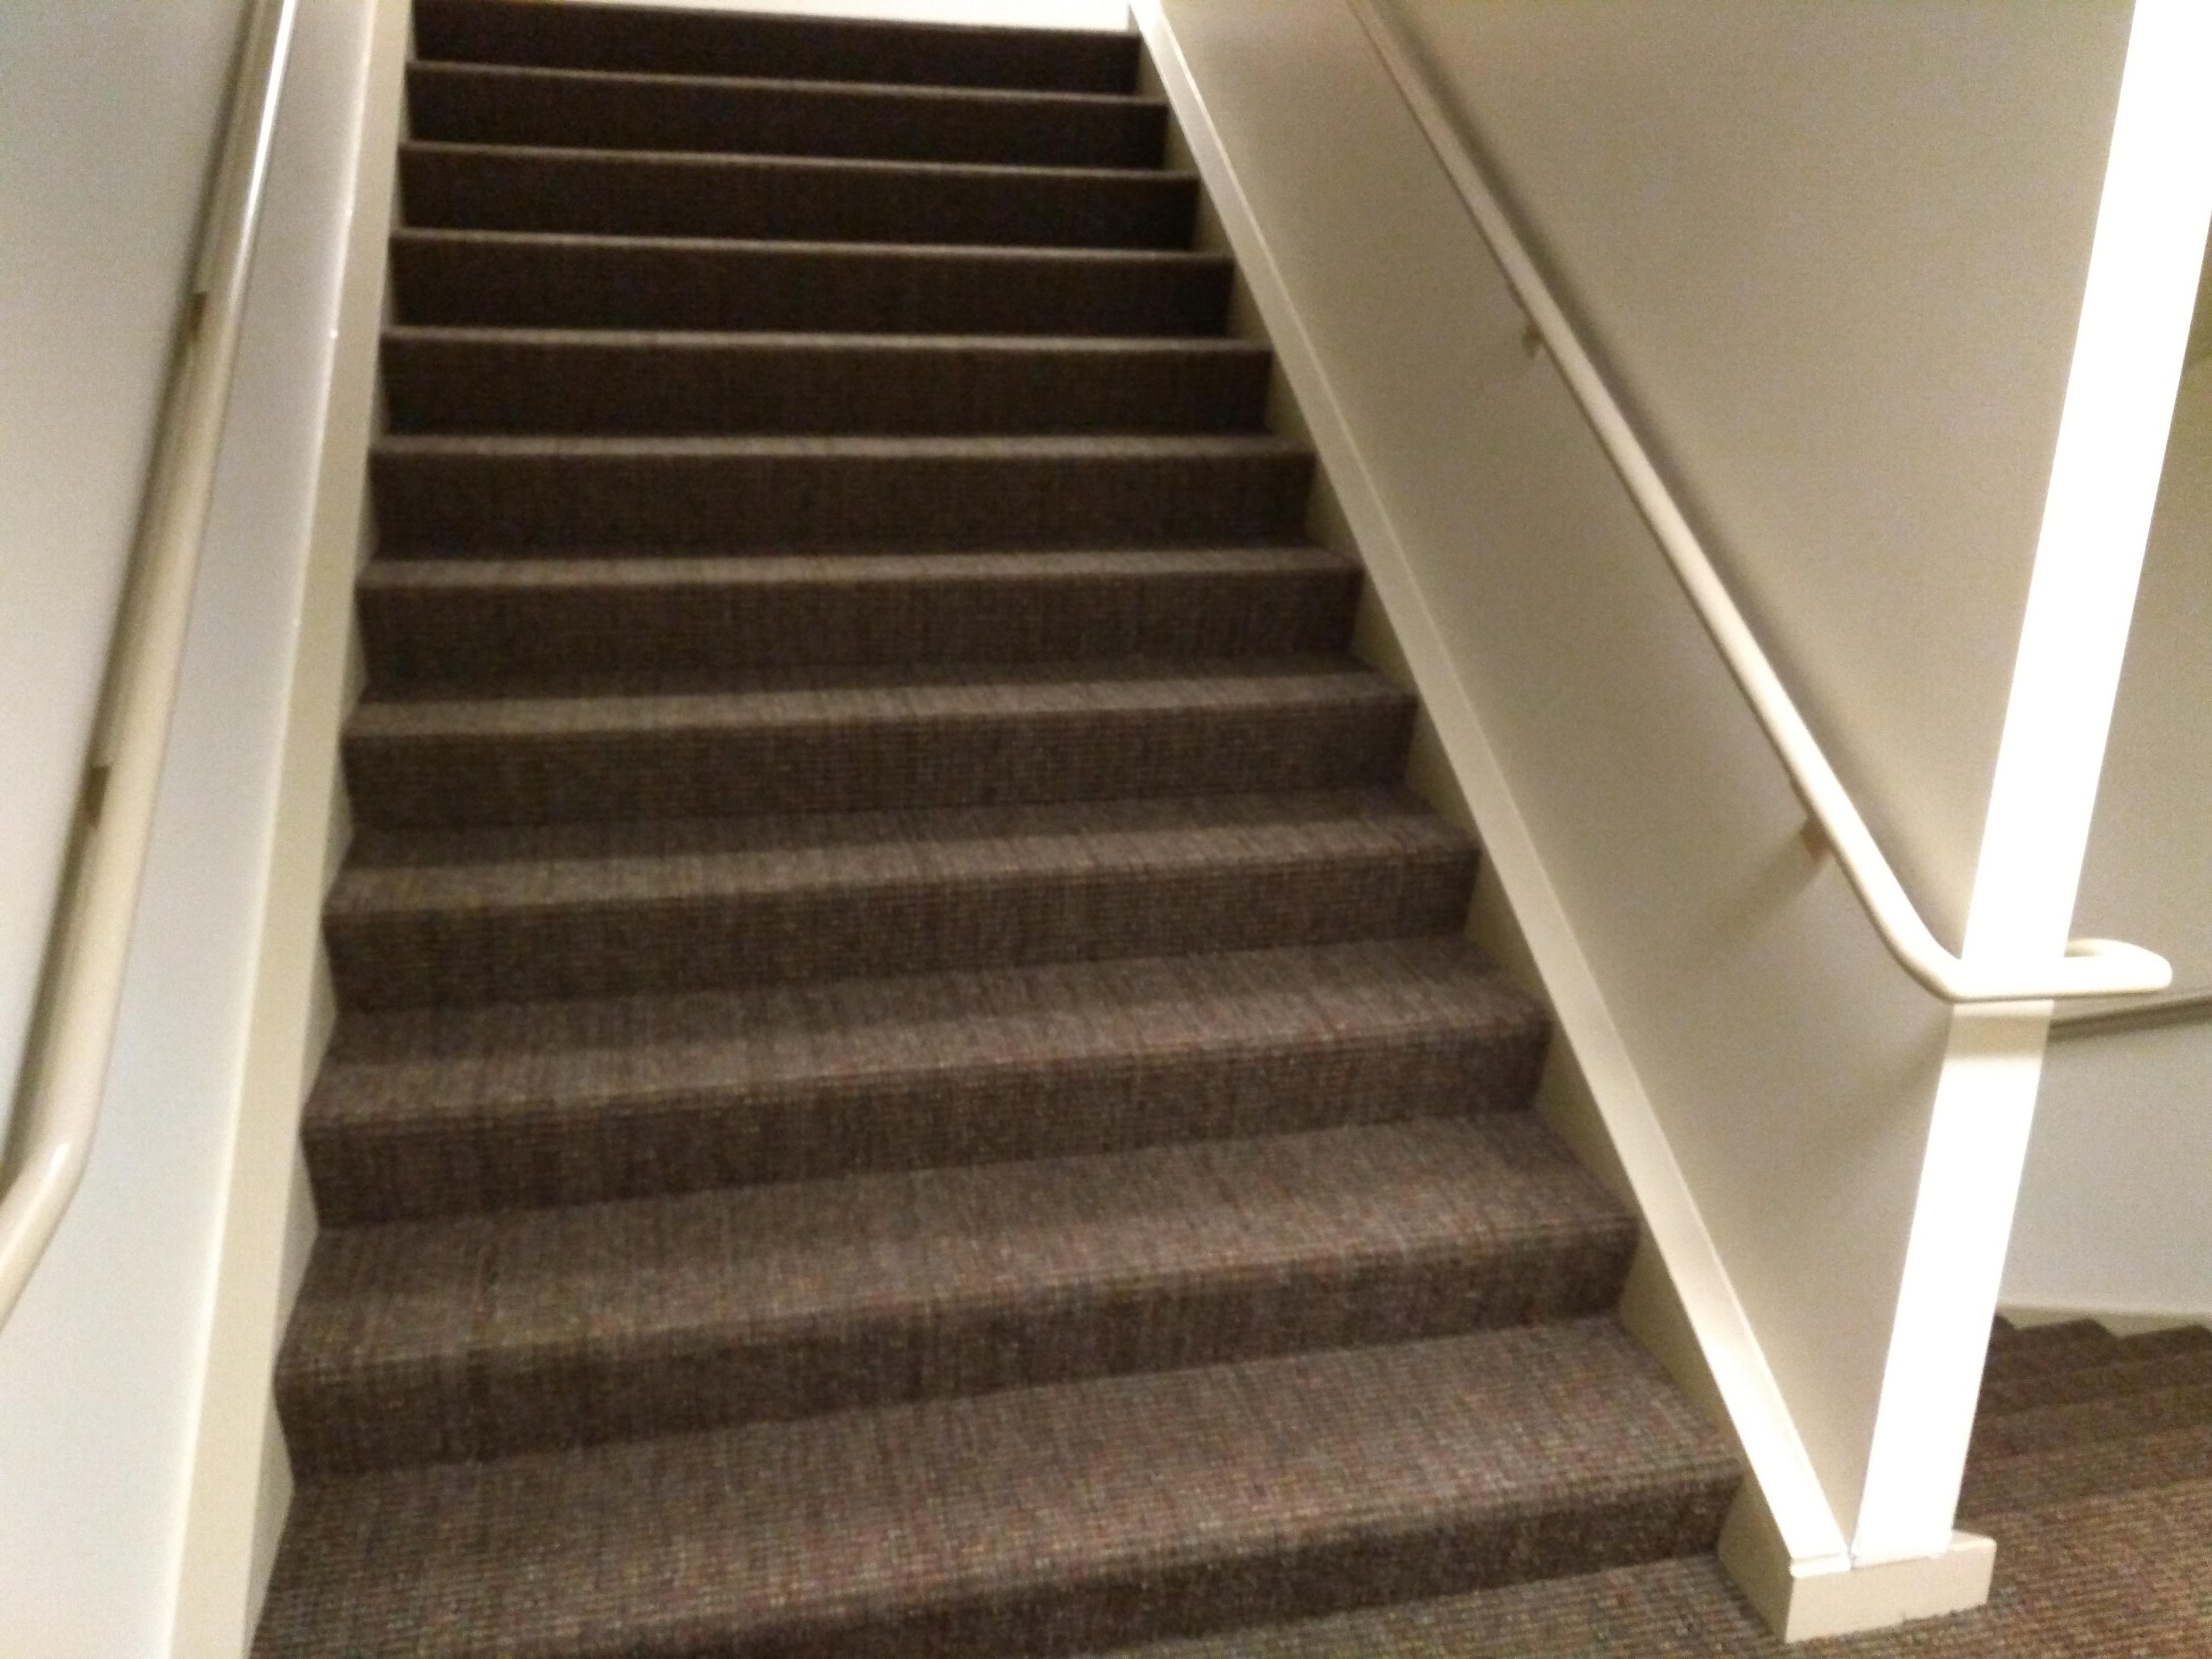stairs_up: (355, 10, 1714, 1619)
